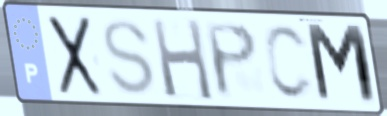C: (261, 22, 317, 103)
H: (148, 16, 217, 104)
M: (302, 20, 382, 109)
P: (201, 21, 261, 102)
S: (100, 17, 158, 98)
X: (46, 14, 105, 99)
